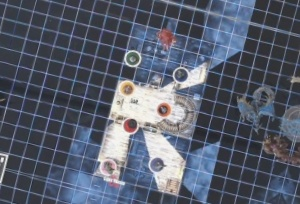blue: (167, 60, 193, 86)
green: (121, 45, 144, 68)
orange: (153, 98, 174, 121)
pink: (95, 154, 120, 179)
red: (119, 113, 143, 137)
violet: (145, 152, 167, 176)
yellow: (117, 76, 137, 96)
